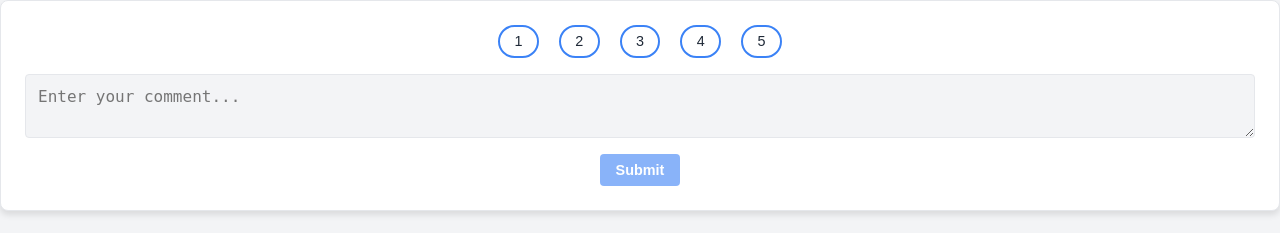
it: SentimentForm Component › Submit button is enabled when both a rating and a non-empty comment are provided
The image size is (1280, 233).
Click the button "4". click: (701, 41)
box: [680,25,721,58]
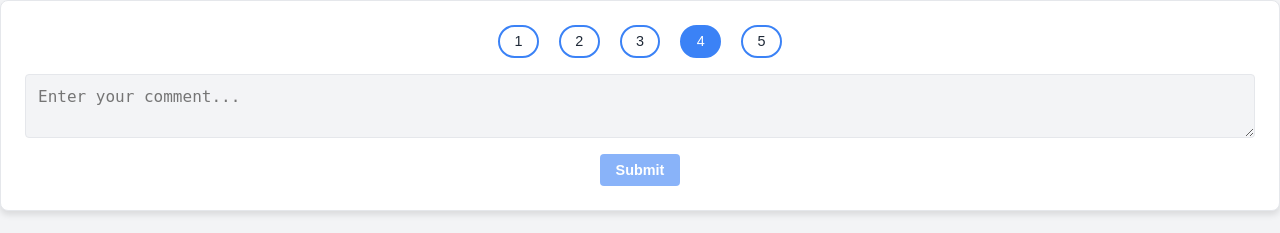
Type "Excellent!" into the text box. click: (640, 106)
box: [25,74,1255,138]
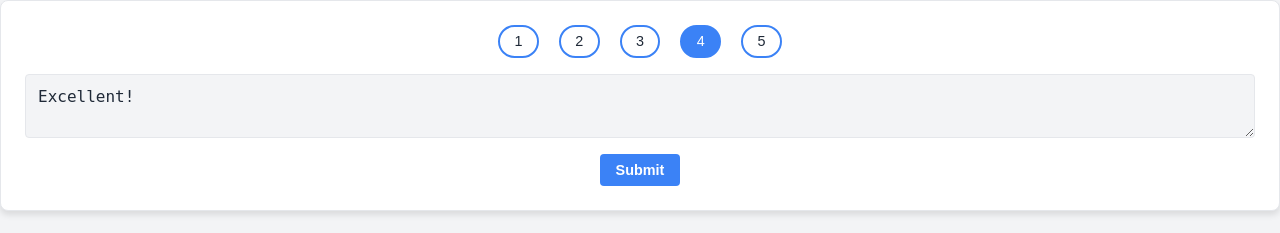
Check: the button "Submit" is enabled, box [600,154,680,186]
